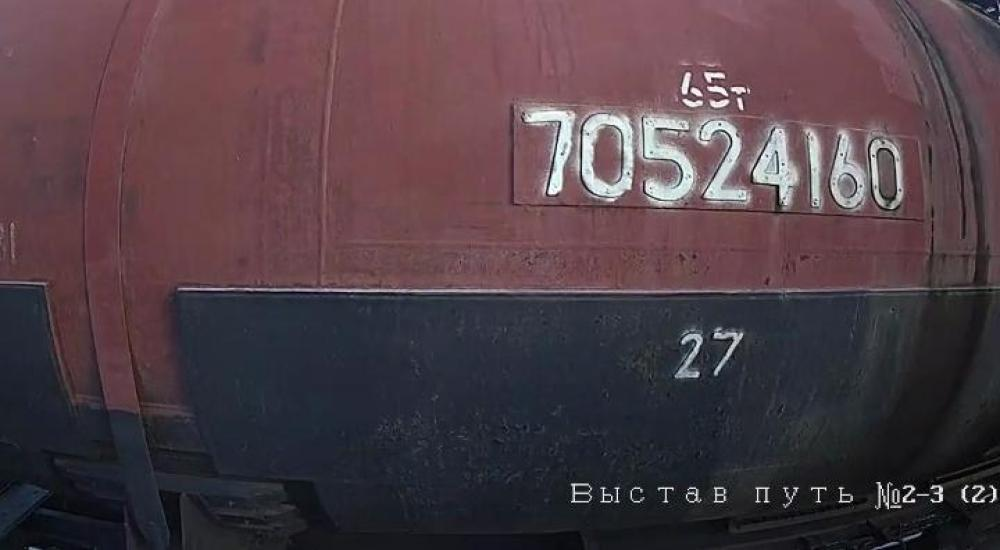Wagon-number: (519, 106, 910, 216)
